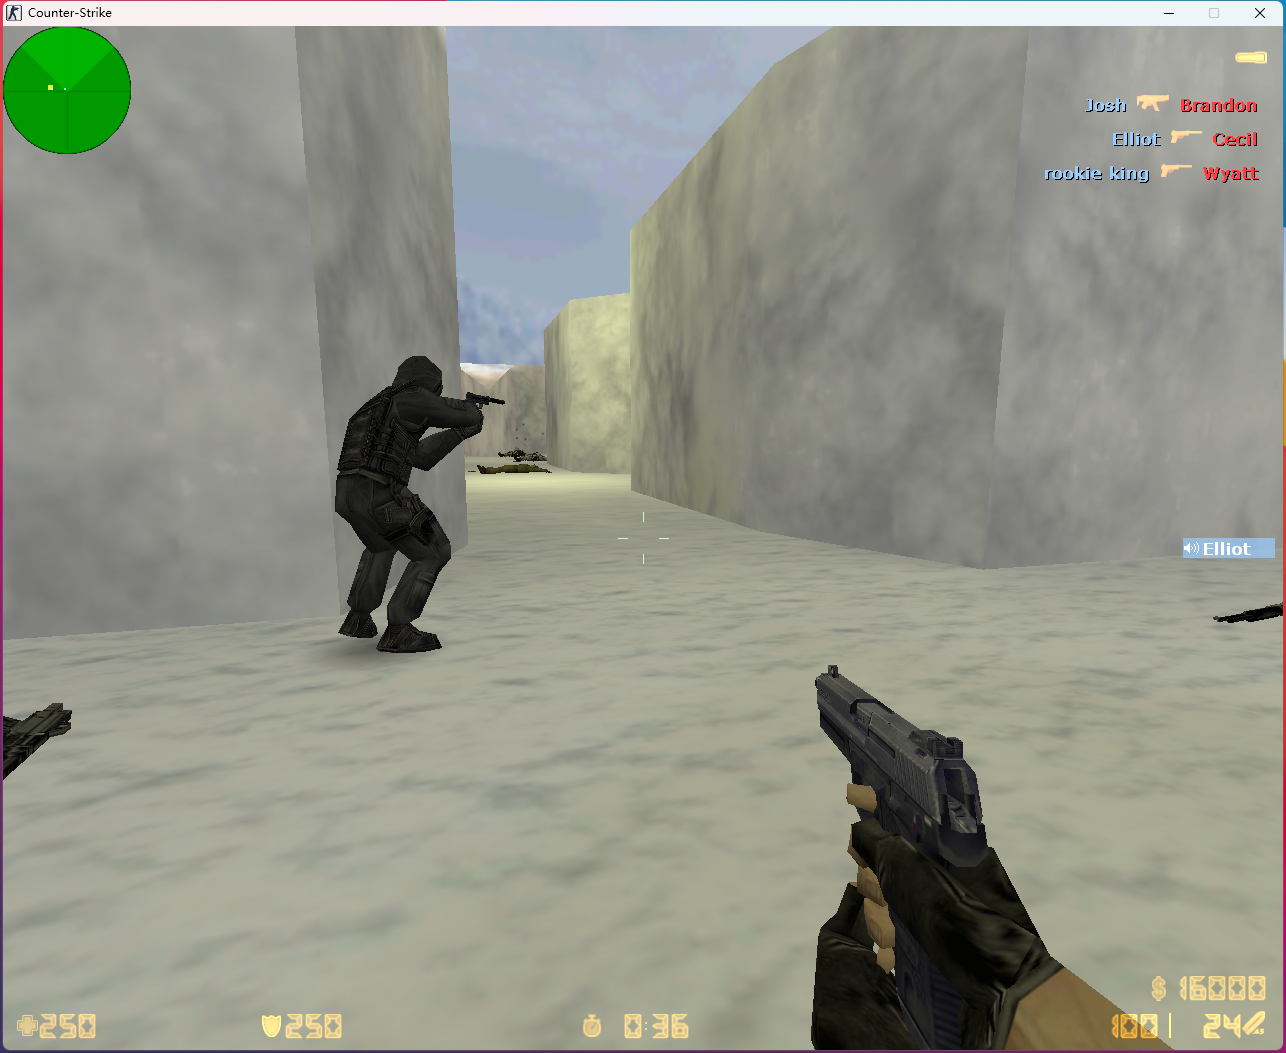C: (333, 353, 486, 655)
dead: (475, 462, 546, 475), (493, 450, 545, 460)
